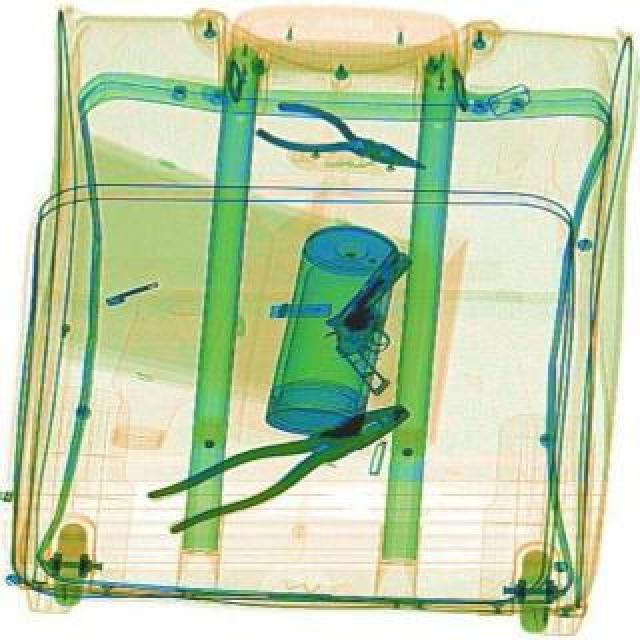gun: (306, 240, 458, 400)
wrench: (144, 388, 420, 540), (250, 92, 434, 188)
